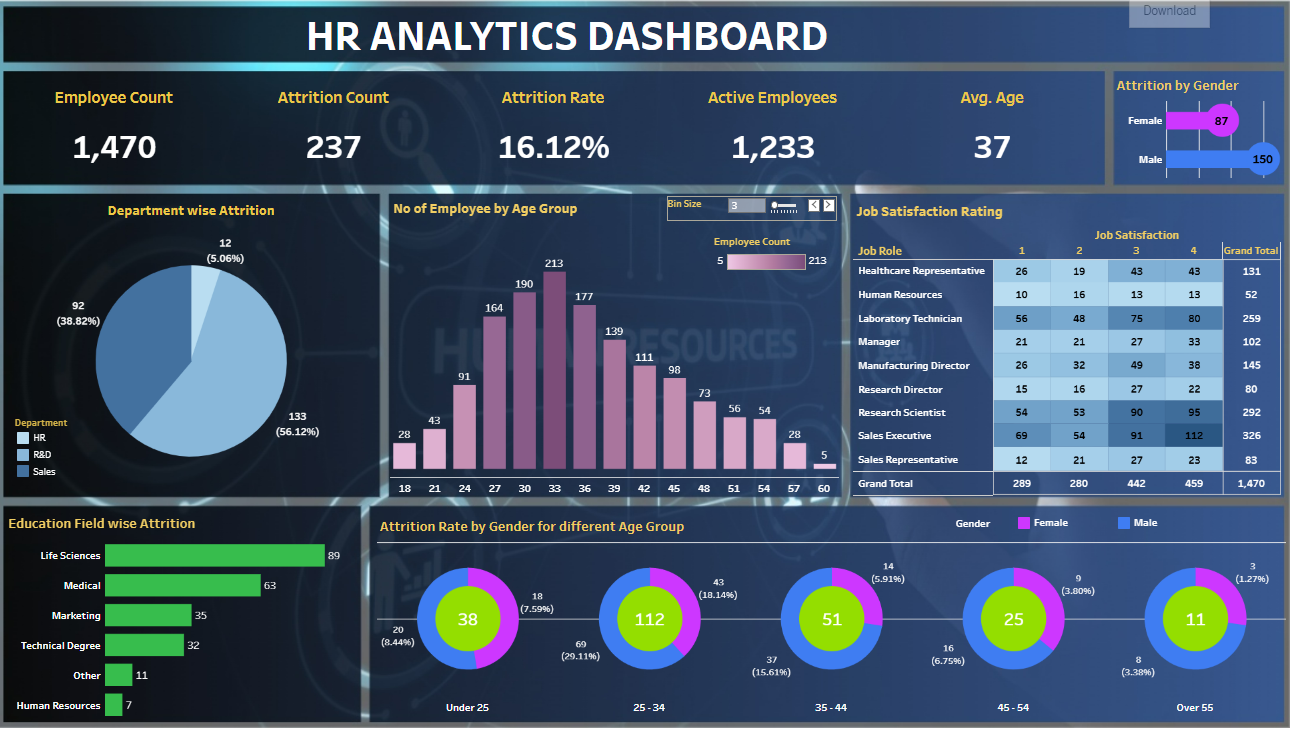

This screenshot's page, from the dashboard's own definition file:
{"tool":"tableau","page":{"name":"HR Analytics","canvas":[1580,900],"ordinal":0},"visuals":[{"type":"image","param":"Image/HR background.pptx.jpg","box":[8,8,1564,884]},{"type":"text","box":[72,20,966,65]},{"type":"filter","title":"Education Field Wise Attrition","param":"[federated.0pnzus604ooqyj1clx34j0zshu4g].[none:Education Field:nk]","box":[1159,20,250,66]},{"type":"worksheet","title":"KPI","mark":"Automatic","box":[16,35,1329,199]},{"type":"worksheet","title":"Attrition by Gender","mark":"Automatic","rows":["Gender"],"cols":["Calculation_1446499921080238082","Calculation_1446499921080238082"],"box":[1356,93,206,141]},{"type":"worksheet","title":"Department wise Attrition","mark":"Pie","box":[19,242,451,367]},{"type":"worksheet","title":"No. of Employee By Age Group","mark":"Automatic","rows":["Employee Count"],"cols":["Age (bin)"],"box":[484,244,544,365]},{"type":"worksheet","title":"Job Satisfaction Rating","mark":"Square","rows":["Job Role"],"cols":["Job Satisfaction"],"box":[1041,244,524,364]},{"type":"dashboard-object","box":[1027,245,24,24]},{"type":"parameter","param":"[Parameters].[Parameter 1]","box":[804,247,221,36]},{"type":"legend","title":"No. of Employee By Age Group","param":"[federated.0pnzus604ooqyj1clx34j0zshu4g].[sum:Employee Count:qk]","box":[808,274,219,55]},{"type":"legend","title":"Department wise Attrition","param":"[federated.0pnzus604ooqyj1clx34j0zshu4g].[none:Department:nk]","box":[22,503,140,101]},{"type":"worksheet","title":"Education Field Wise Attrition","mark":"Automatic","rows":["Education Field"],"cols":["Calculation_1446499921080238082"],"box":[17,618,432,261]},{"type":"worksheet","title":"Attrition Rate by Gender for diffrent age group","mark":"Pie","rows":["Calculation_1446499921387012103","Calculation_1446499921387102217"],"cols":["CF_age band"],"box":[458,619,1106,259]}]}

Visuals, with their boxes in screenshot pixels (x1, y1, x2, y2), scaled from the page's 1580x900 canvas onto the 1293x729 screenshot:
image: 7/6/1286/723
text: 59/16/849/69
"Education Field Wise Attrition" filter: 948/16/1153/70
"KPI" worksheet: 13/28/1101/190
"Attrition by Gender" worksheet: 1110/75/1278/190
"Department wise Attrition" worksheet (Pie marks): 16/196/385/493
"No. of Employee By Age Group" worksheet: 396/198/841/493
"Job Satisfaction Rating" worksheet (Square marks): 852/198/1281/492
dashboard-object: 840/198/860/218
parameter: 658/200/839/229
"No. of Employee By Age Group" legend: 661/222/840/266
"Department wise Attrition" legend: 18/407/133/489
"Education Field Wise Attrition" worksheet: 14/501/367/712
"Attrition Rate by Gender for diffrent age group" worksheet (Pie marks): 375/501/1280/711
